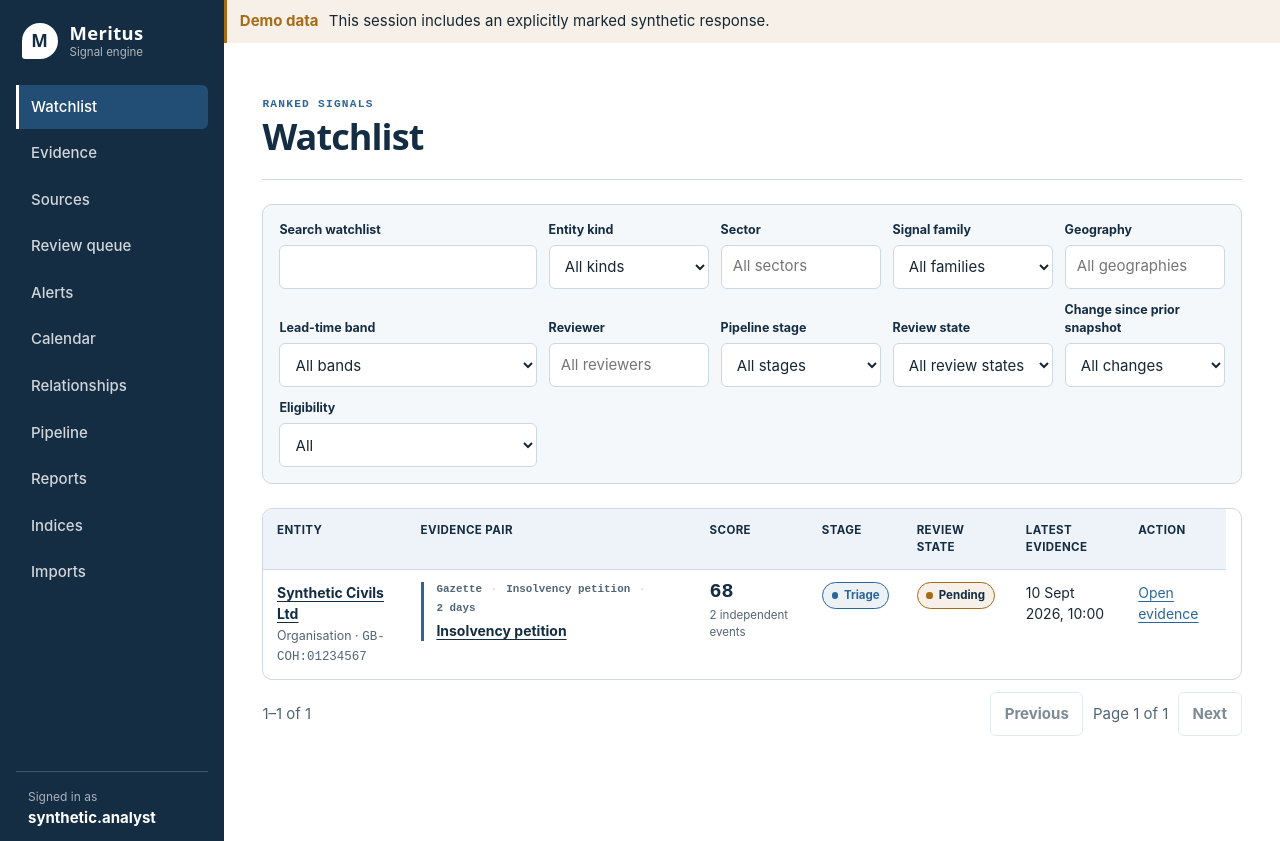
Test case: analyst desk interactions › reports failed dependent lists and disables affected writes
Click the link "Calendar".
click(63, 339)  # box top-left (31, 329), bottom-right (96, 348)
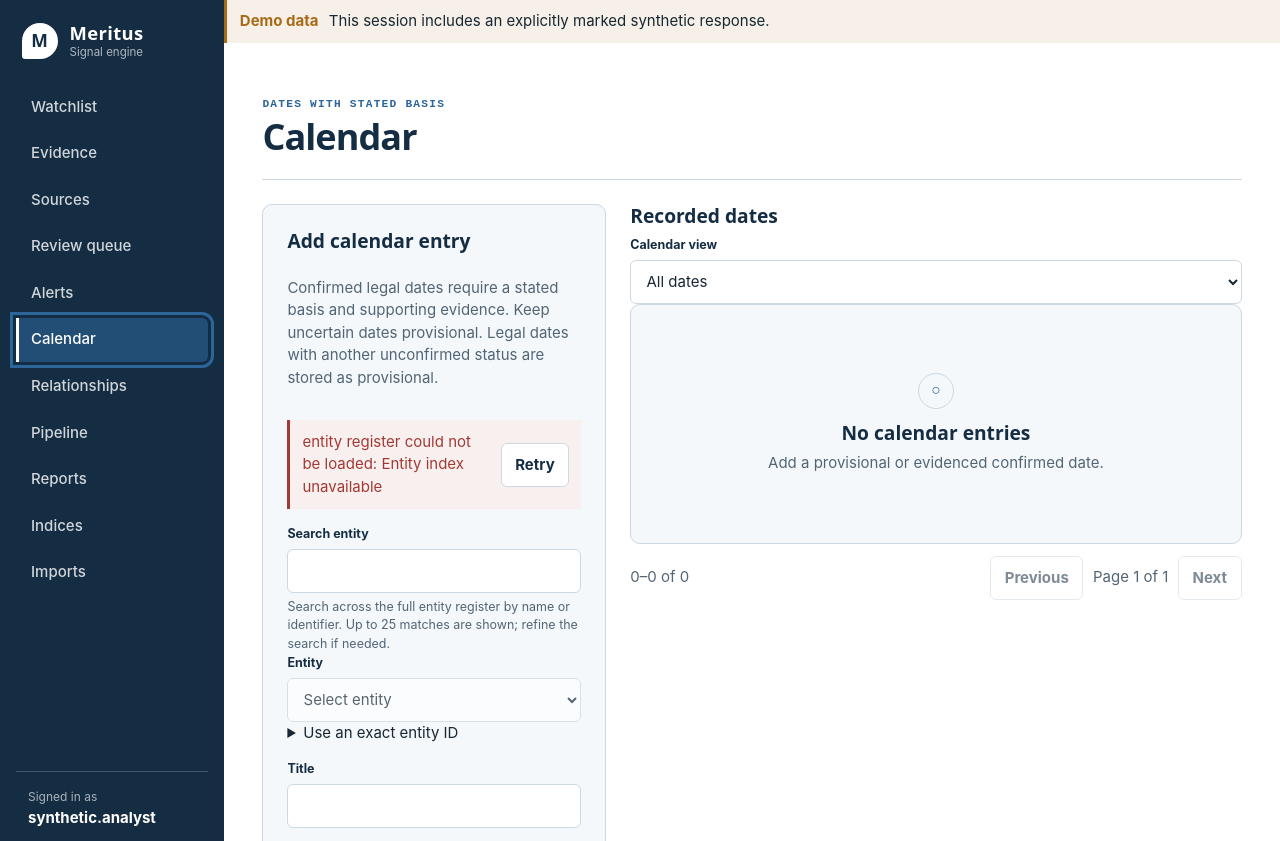
Expected: the text "entity register could not be loaded: Entity index unavailable" is shown, top-left (302, 431), bottom-right (493, 498)
Expected: the button "Retry" is shown, top-left (501, 442), bottom-right (569, 486)
